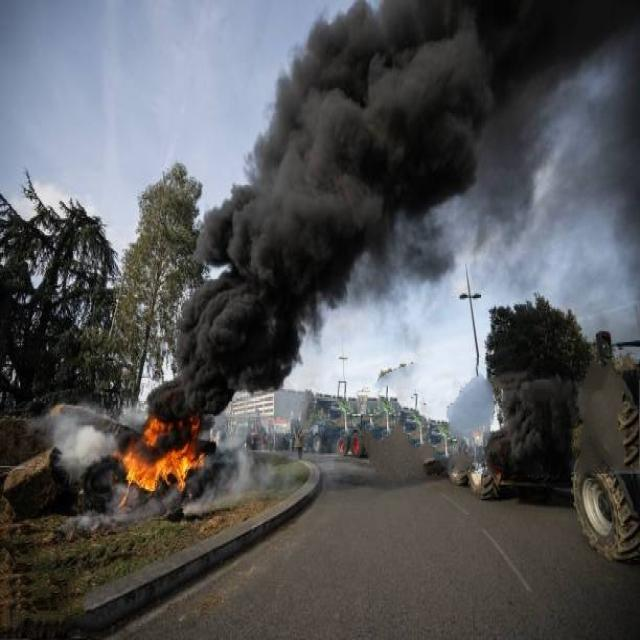fire: (124, 446, 204, 493)
